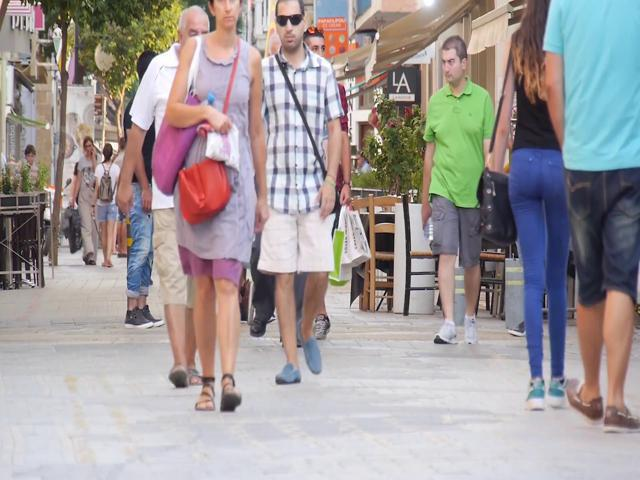shoe: (566, 379, 604, 425), (299, 317, 322, 373), (604, 404, 640, 433), (220, 374, 241, 411), (195, 377, 215, 411), (547, 376, 567, 408), (125, 307, 154, 329), (526, 378, 545, 410), (433, 320, 457, 345), (248, 312, 268, 336), (169, 364, 188, 388), (276, 365, 300, 384), (464, 314, 477, 345), (313, 315, 330, 338)
